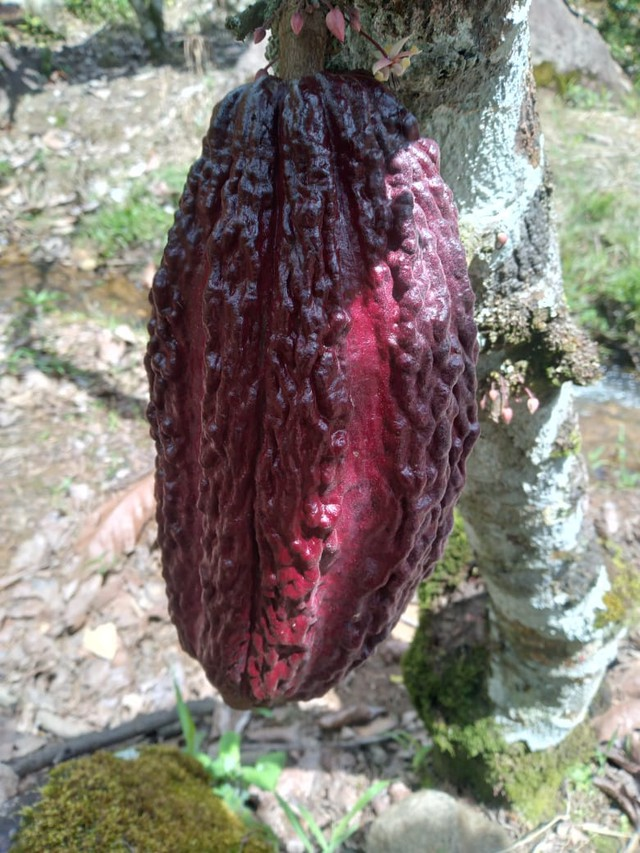Health: (118, 45, 496, 734)
